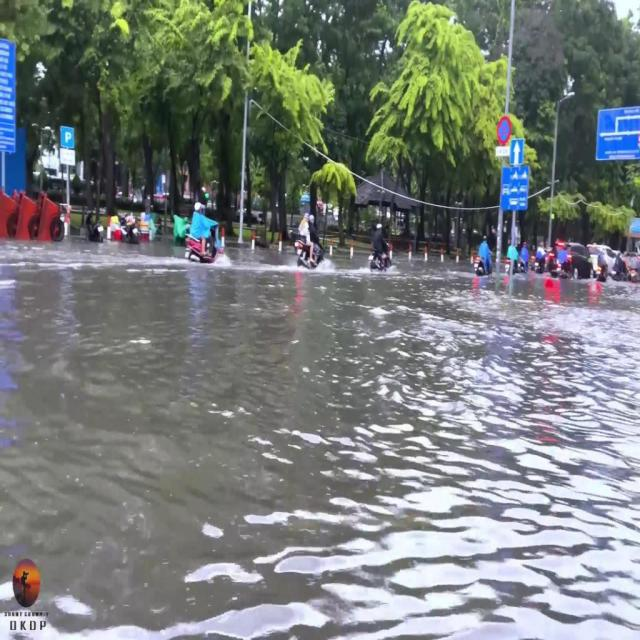cam_dung_xe_va_do_xe: (496, 116, 512, 146)
duong_mot_chieu: (510, 139, 524, 164)
khac: (596, 104, 640, 159), (61, 126, 74, 148), (59, 148, 75, 165)
lan_duong_cho_tung_xe_theo_vach_ke_duong: (500, 166, 530, 211)
